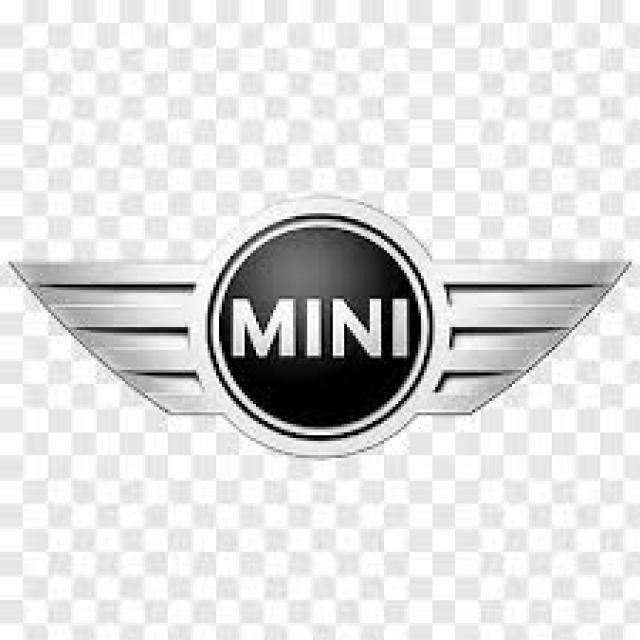mini: (22, 195, 636, 455)
